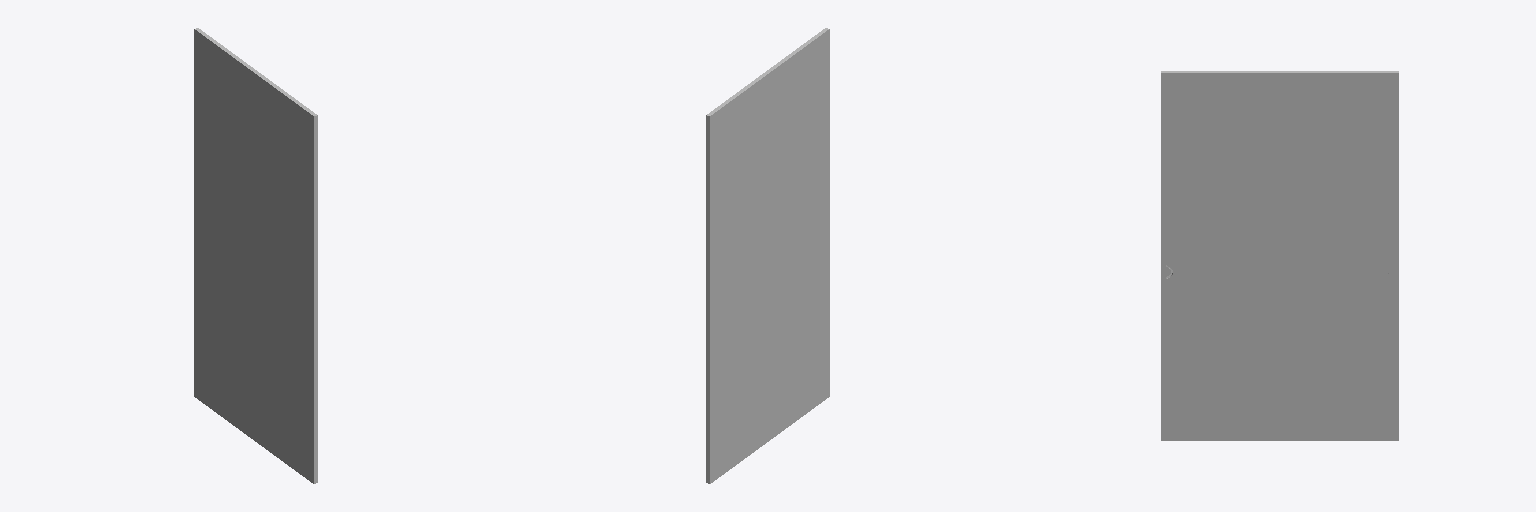
3 views of the same model, side by side, from view 1: azimuth 30°, elevation 25°; view 2: azimuth 150°, elevation 25°; view 3: azimuth 270°, elevation 25° (orthographic).
Parts seen in each view (by area): view 1: back2_zoetrope.103; view 2: back2_zoetrope.103; view 3: back2_zoetrope.103.
Boxes of the visible parts, <box> form: back2_zoetrope.103: <box>194,28,317,483</box>; back2_zoetrope.103: <box>706,28,829,483</box>; back2_zoetrope.103: <box>1161,71,1398,440</box>.
Bounding box in the file's own units: 0.0109 × 0.9246 × 0.5439.